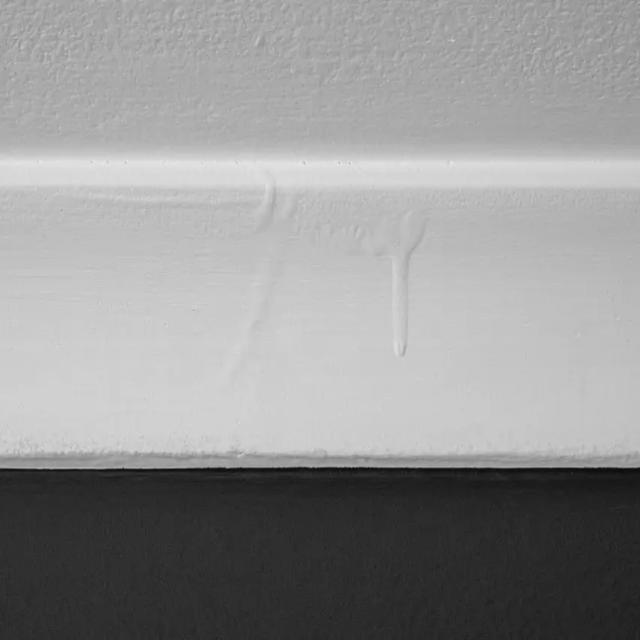paint drips: (328, 153, 450, 377), (218, 118, 322, 292)
